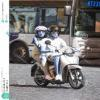motorcycles: (53, 43, 87, 90)
